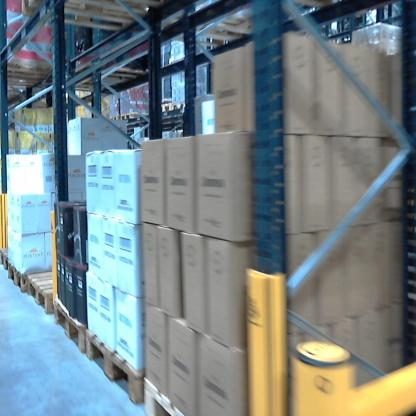pallet: (176, 4, 299, 49), (85, 319, 147, 408), (12, 2, 174, 31), (64, 54, 161, 94), (48, 294, 85, 362), (142, 374, 201, 415), (5, 254, 56, 300), (27, 261, 64, 321), (3, 59, 64, 92), (118, 102, 171, 124), (0, 247, 22, 274), (171, 99, 192, 111), (106, 114, 120, 124)
